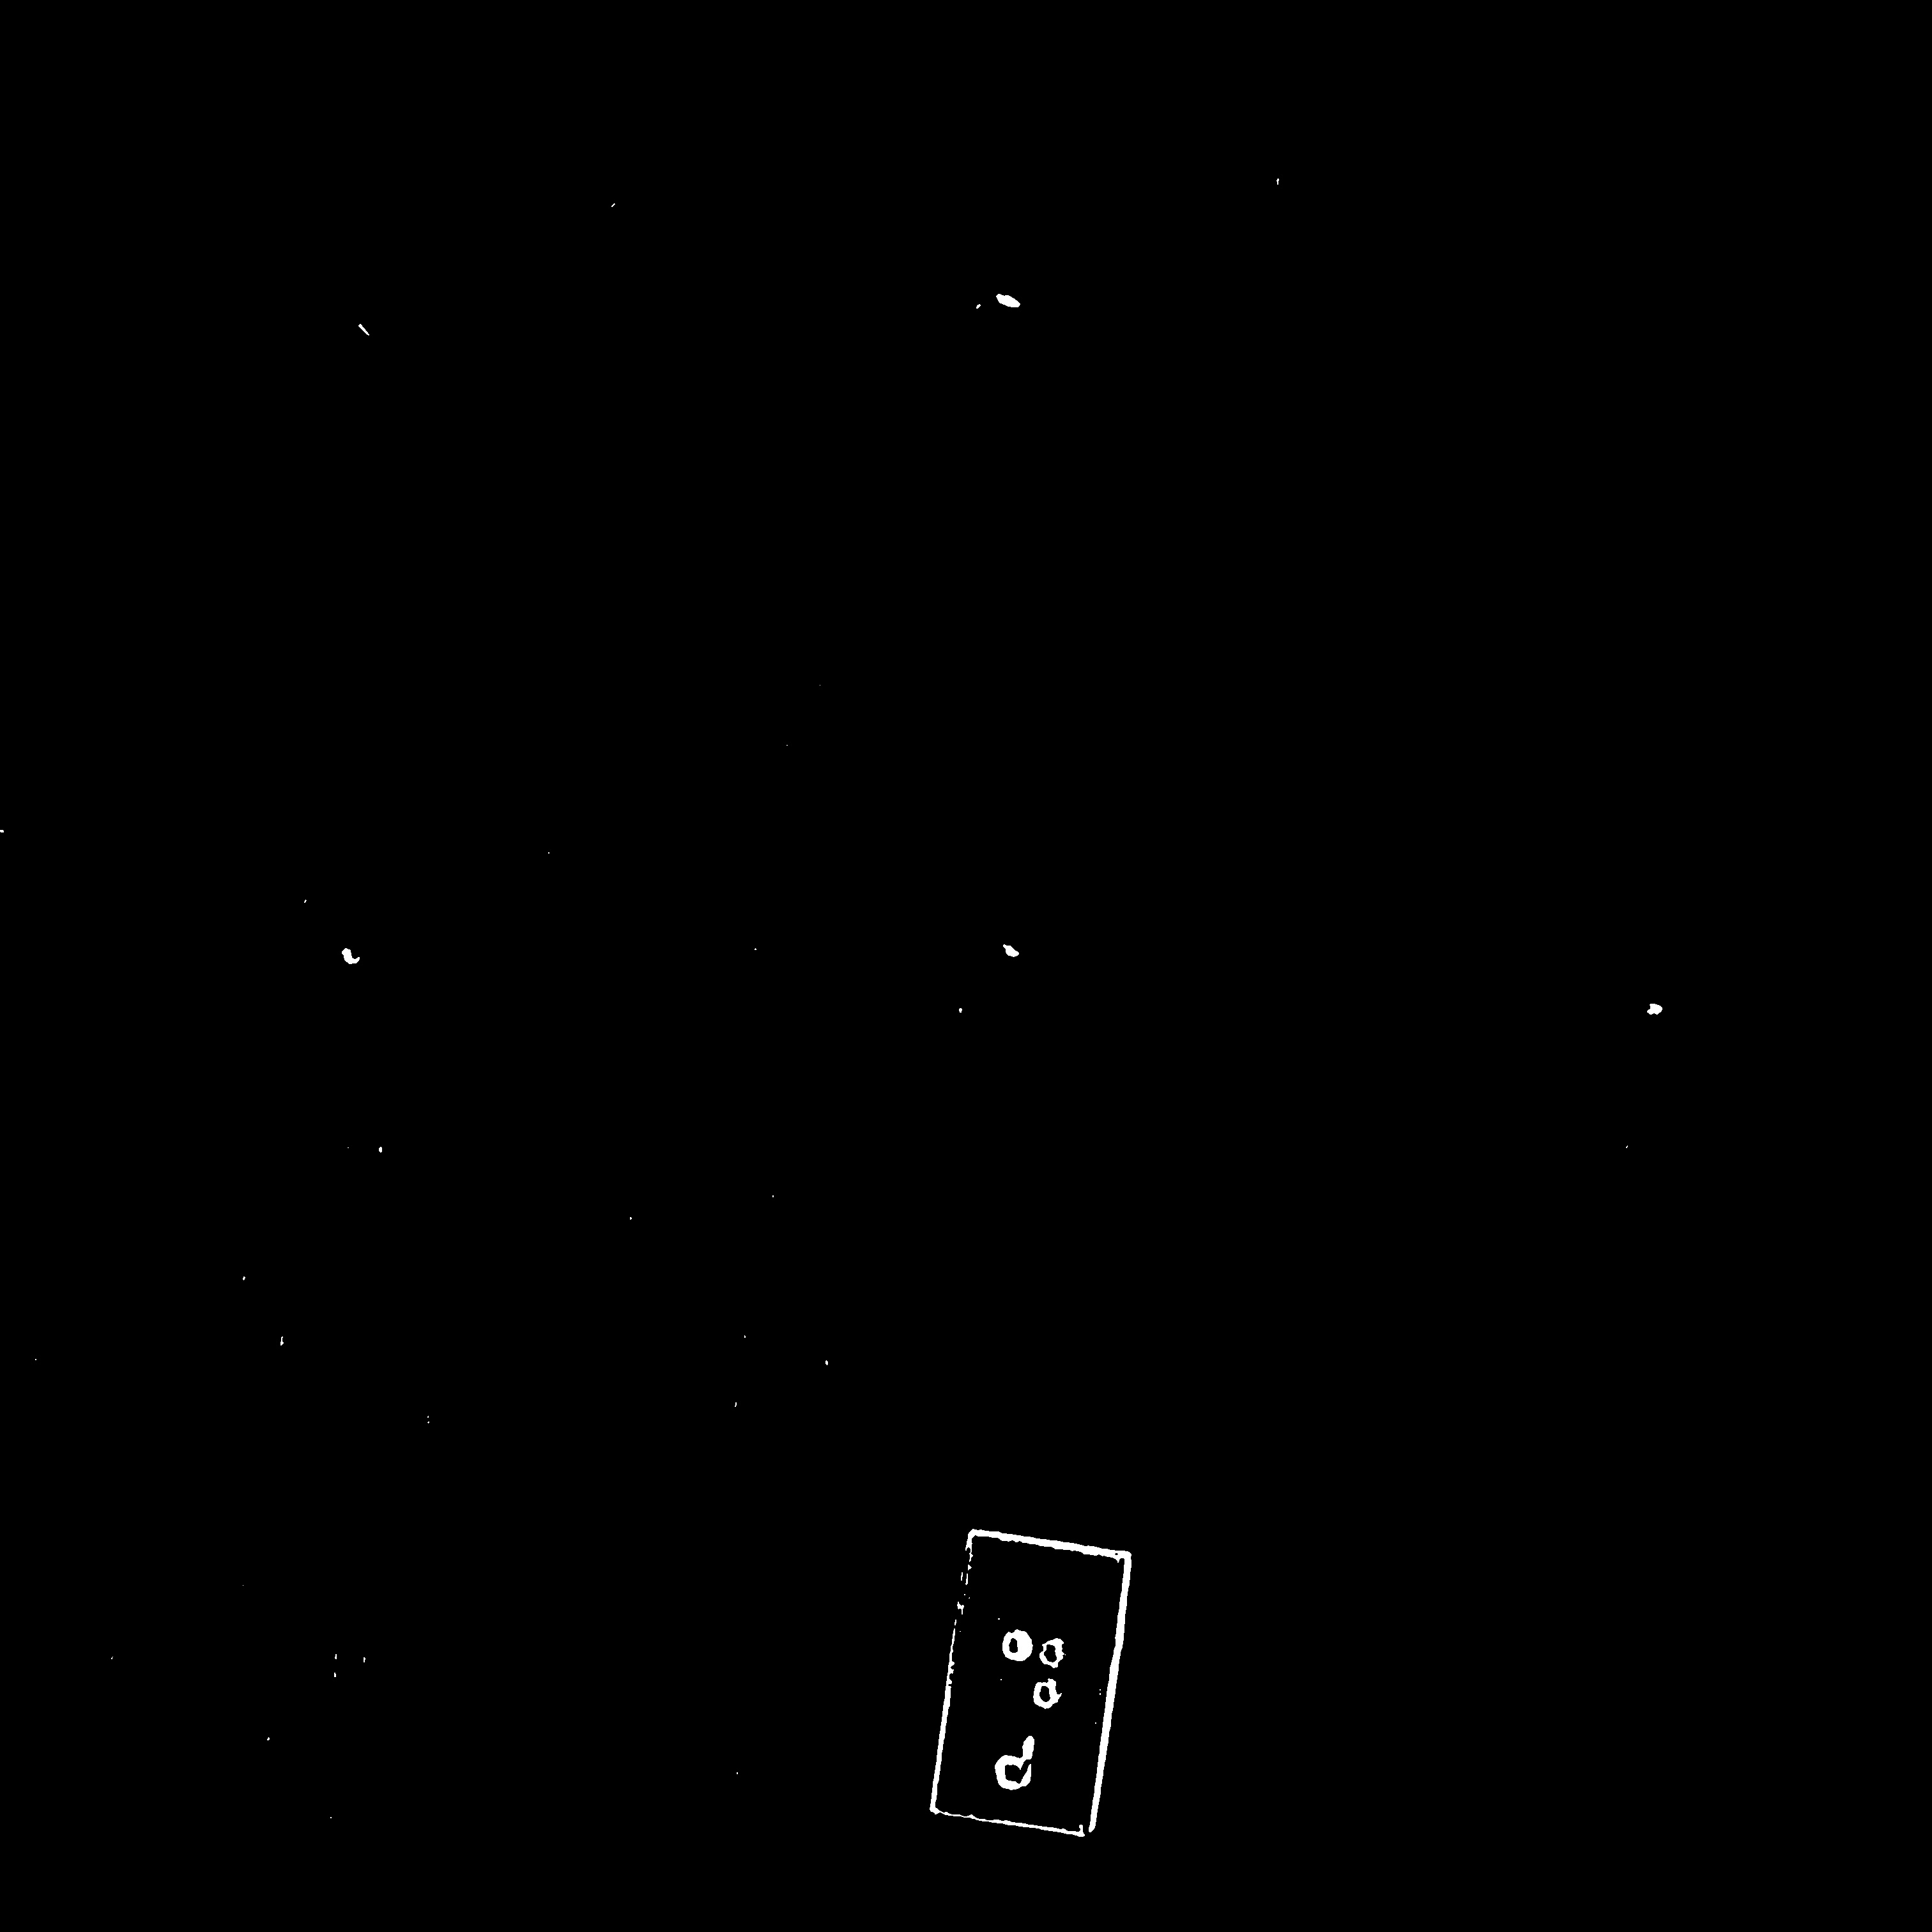d: (989, 1618, 1082, 1749)
